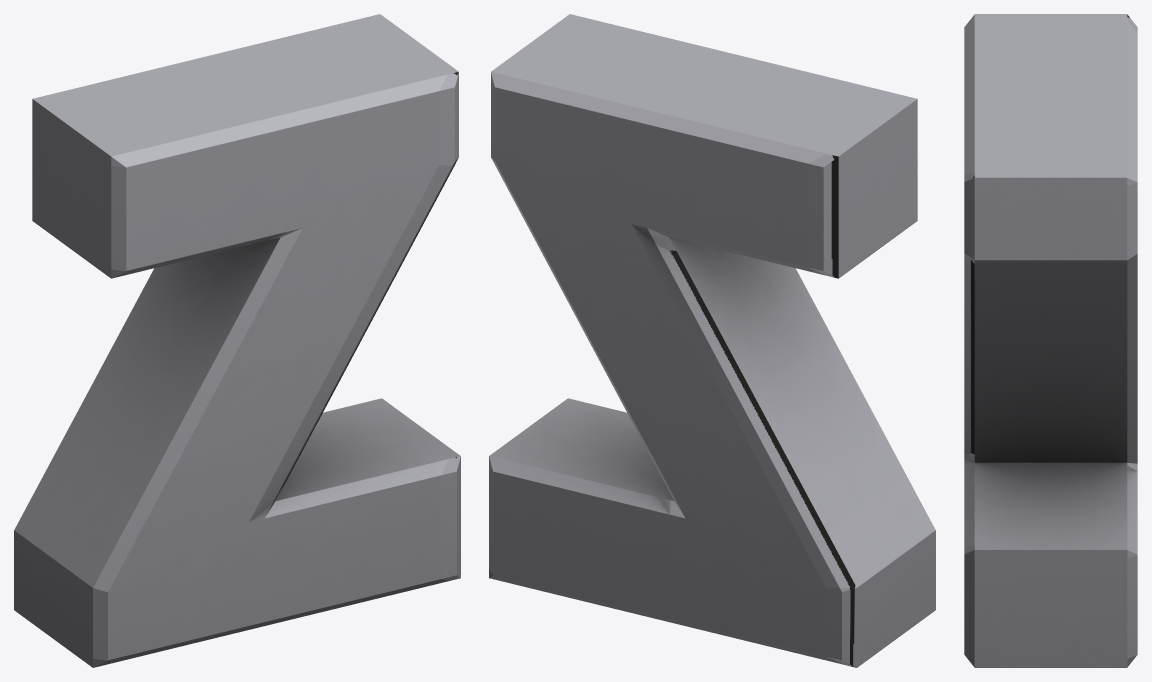
File: Z_static.fbx
3 renders of one model, left to right at view 1: azimuth 30°, elevation 25°; view 2: azimuth 150°, elevation 25°; view 3: azimuth 270°, elevation 25°, orthographic. The views are drawn at different scales.
Visible parts, largest first — view 1: Z_static; view 2: Z_static; view 3: Z_static.
Part boxes in pixels (<box>): Z_static: <box>14,14,460,667</box>; Z_static: <box>489,14,935,667</box>; Z_static: <box>964,14,1137,667</box>.
Size of the model in its own units: 78.04 by 103 by 33.
